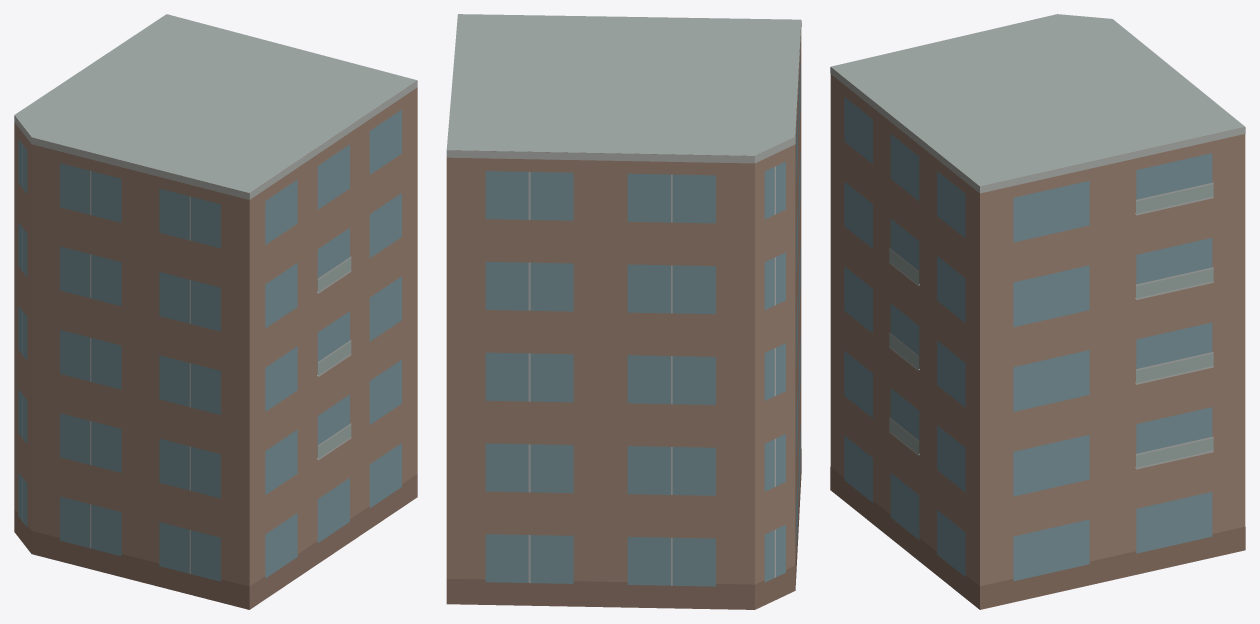
Rendered from survey-upis-32840605.glb.
The picture shows the model from 3 angles, left to right: view 1: azimuth 30°, elevation 25°; view 2: azimuth 150°, elevation 25°; view 3: azimuth 270°, elevation 25°; orthographic projection. The views are drawn at different scales.
Parts seen in each view (by area): view 1: survey-upis-32840605.tmp; view 2: survey-upis-32840605.tmp; view 3: survey-upis-32840605.tmp.
Boxes of the visible parts, bbox=[...] form: survey-upis-32840605.tmp: bbox=[14, 14, 417, 609]; survey-upis-32840605.tmp: bbox=[446, 14, 801, 609]; survey-upis-32840605.tmp: bbox=[830, 14, 1245, 609].
Bounding box in the file's own units: 12.9 × 14.75 × 13.11.
